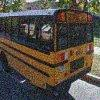buses: (1, 8, 95, 99)
